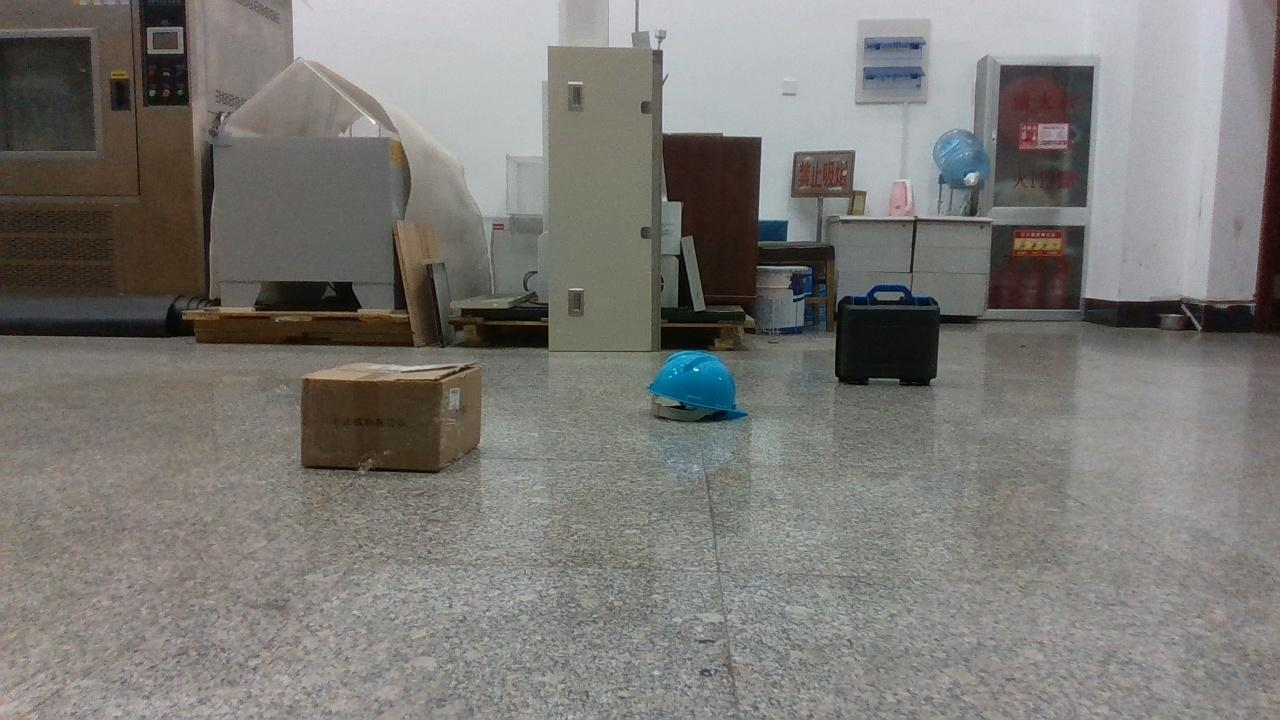box: (300, 362, 482, 471)
safehat: (648, 350, 748, 421)
toolkit: (835, 285, 940, 385)
